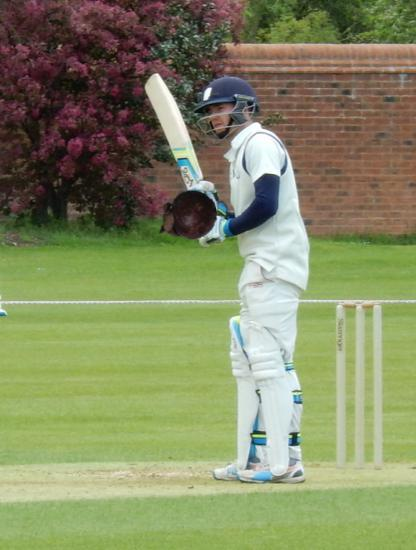Mangostan: (155, 185, 218, 248)
